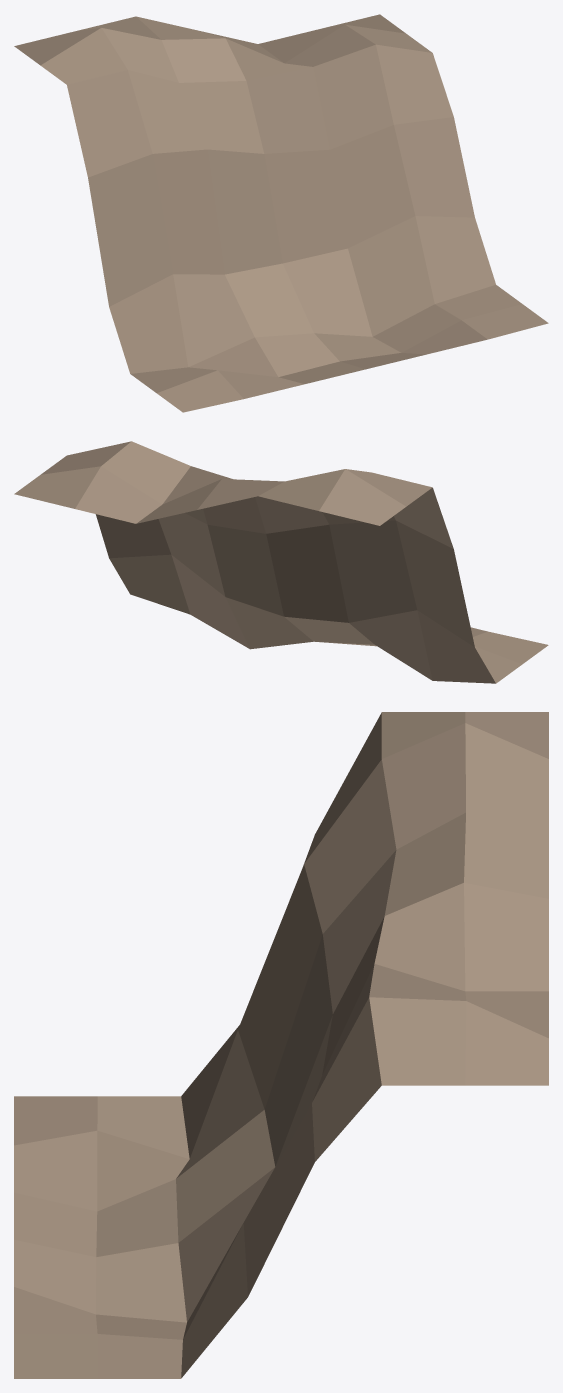
Rendered from Groborchik_RiverBank_Trans_Up4-3.fbx.
3 renders of one model, top to bottom at view 1: azimuth 30°, elevation 25°; view 2: azimuth 150°, elevation 25°; view 3: azimuth 270°, elevation 25°, orthographic. The views are drawn at different scales.
Visible parts, largest first — view 1: Trans_Up4-3; view 2: Trans_Up4-3; view 3: Trans_Up4-3.
Part boxes in pixels (x1,y1,x2,y2): Trans_Up4-3: [14, 14, 548, 412]; Trans_Up4-3: [14, 441, 548, 683]; Trans_Up4-3: [14, 712, 548, 1378].
Size of the model in its own units: 1000 by 756 by 800.
